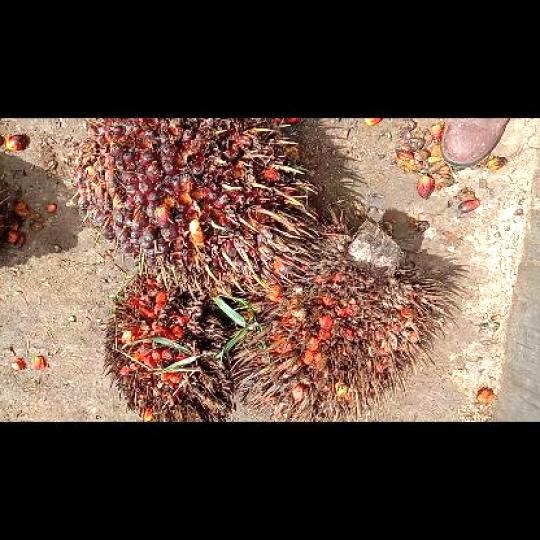masak: (67, 119, 322, 302)
terlalu masak: (230, 217, 453, 419), (97, 264, 241, 421)
